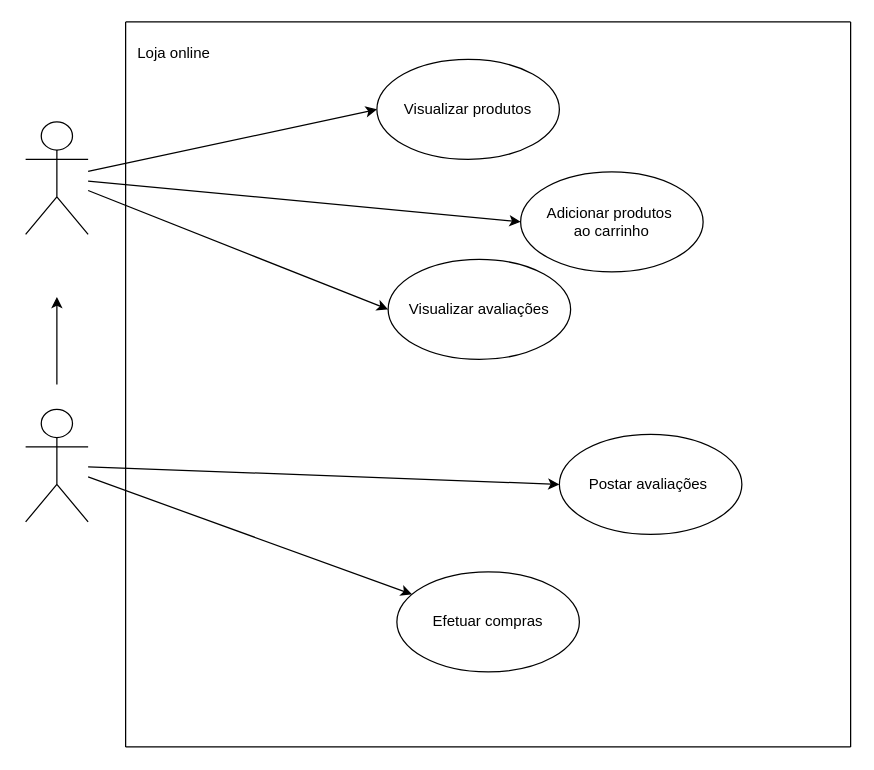
This 874x770 diagram has some shape labels left out. Each missing label, with the box of its shape:
Cliente Deslogado: (24, 121, 88, 234)
Cliente Logado: (24, 408, 88, 522)
